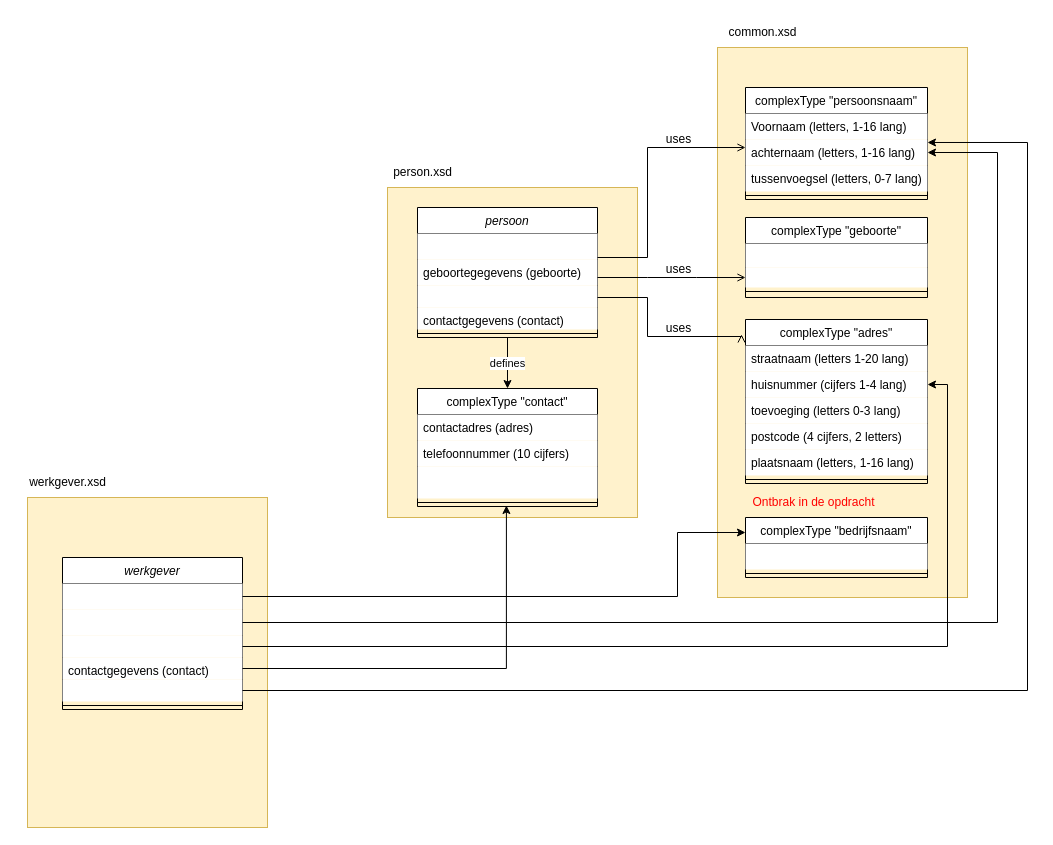
Image size: 1053x845. Some labels were removed from this diagram. The shapes that lost their labels are listed below. From the top down, each one's centre as x and y in pixels, then its label:
[507,246]: naam (persoonsnaam)
[836,255]: datum (ddmmjj)
[507,296]: woonadres (adres)
[836,277]: plaatsnaam (letters, 1-16)
[507,482]: email (cijfers/letters/punten + @ + cijfers/letters/punten
[836,556]: Naam (letters, 1-16 lang)
[152,596]: naam (bedrijfsnaam)
[152,622]: eigenaar (persoonsnaam)
[152,646]: vestigingsadres (adres)
[152,690]: werknemer (persoon, 0 of meer)
